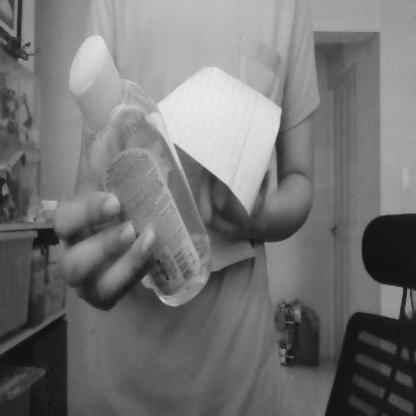Plastic Bottle: (67, 33, 215, 310)
